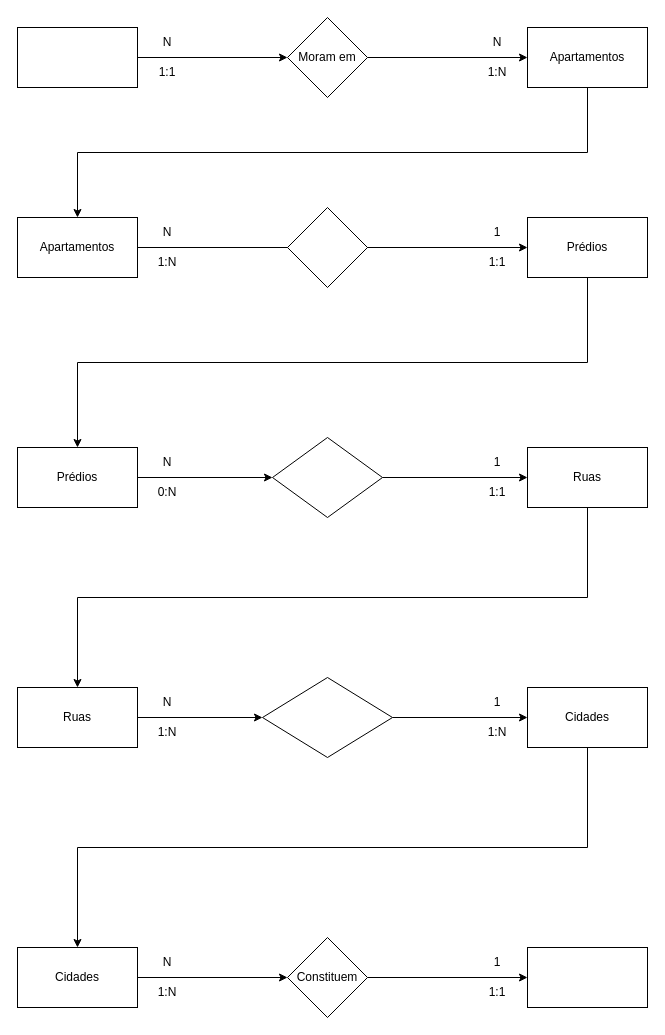
Some shapes in this 665 by 1035 pixel diagram are drawn without their labels. The centre of each missing label's shape, as x and y in pixels:
Fazem parte de: the point at 327,717
Formam: the point at 327,247
Localizam-se: the point at 327,477
Países: the point at 587,977
Pessoas: the point at 77,57
